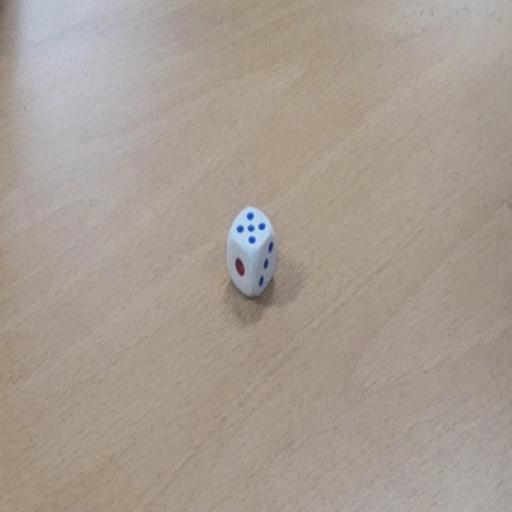dice_5: (226, 205, 278, 300)
